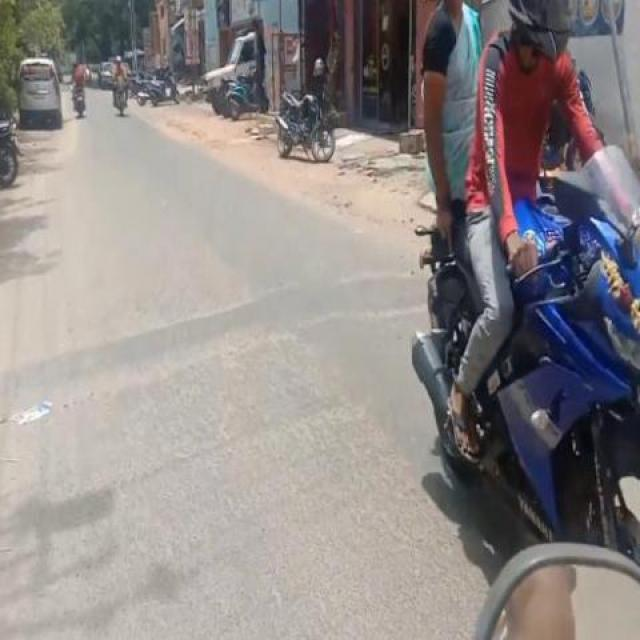Unmarked Bump: (0, 269, 413, 431)
